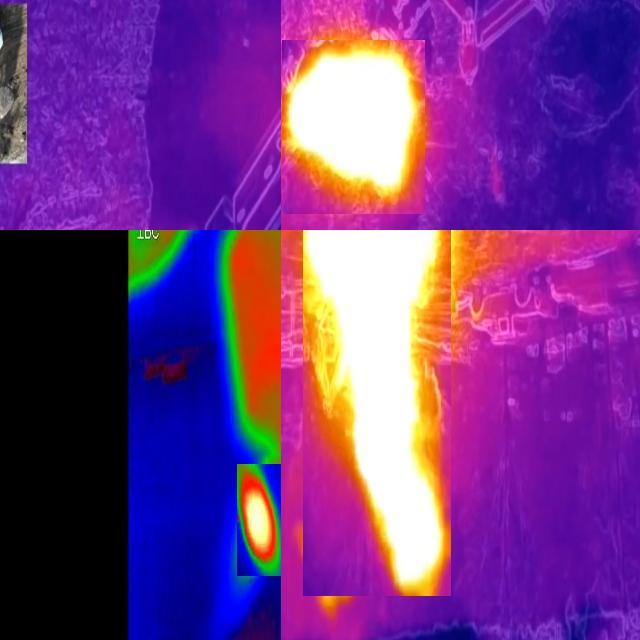fire: (304, 231, 452, 597), (283, 41, 426, 215), (238, 465, 282, 577)
